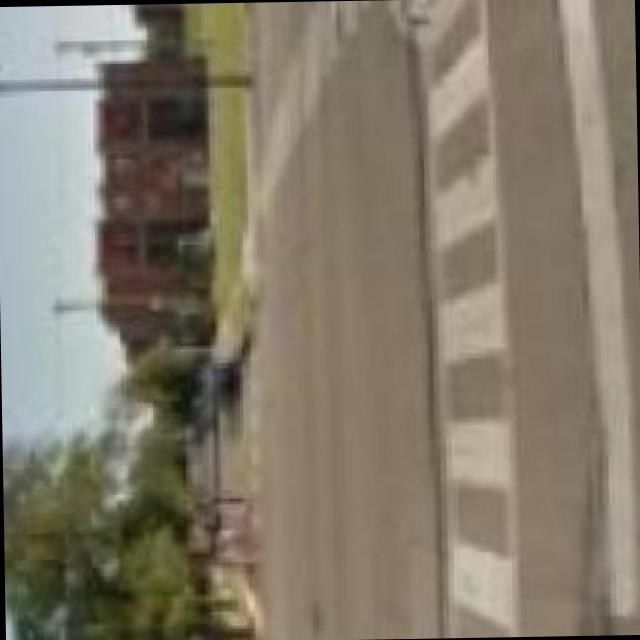zebra: (416, 0, 522, 637), (256, 0, 359, 200)
